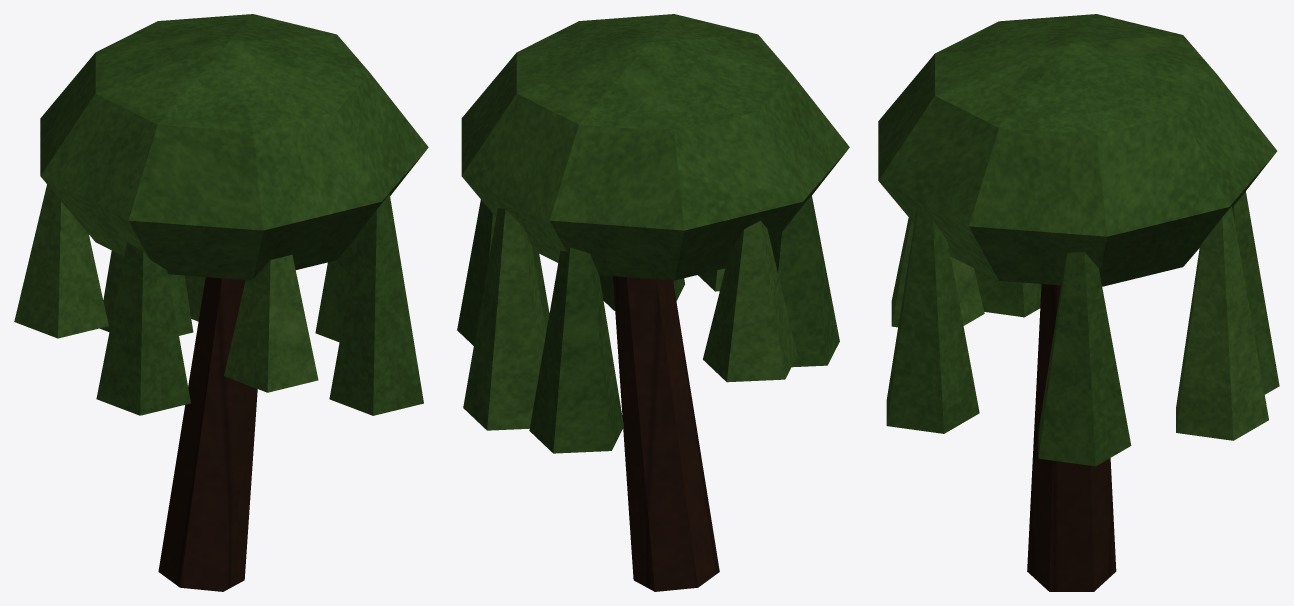
The model's file is willow.gltf.
3 views of the same model, side by side, from view 1: azimuth 30°, elevation 25°; view 2: azimuth 150°, elevation 25°; view 3: azimuth 270°, elevation 25° (orthographic). The views are drawn at different scales.
Parts seen in each view (by area): view 1: Willow; view 2: Willow; view 3: Willow.
Part boxes in pixels (x1,y1,x2,y2): Willow: (14,14,428,591); Willow: (457,14,849,591); Willow: (878,14,1279,591).
Size of the model in its own units: 1.23 by 1.76 by 1.17.
3 materials, 3 textured.
